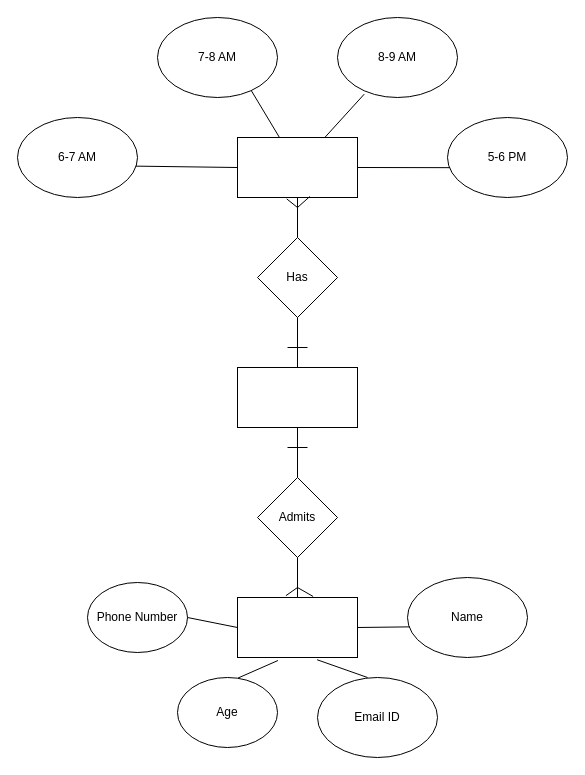
Image size: 585x775. Some labels were removed from this diagram. The box of each missing label's shape, as (x1, y1, x2, y2) in pixels:
Batches: (236, 136, 358, 198)
Customer: (236, 596, 358, 658)
Yoga class: (236, 366, 358, 428)
